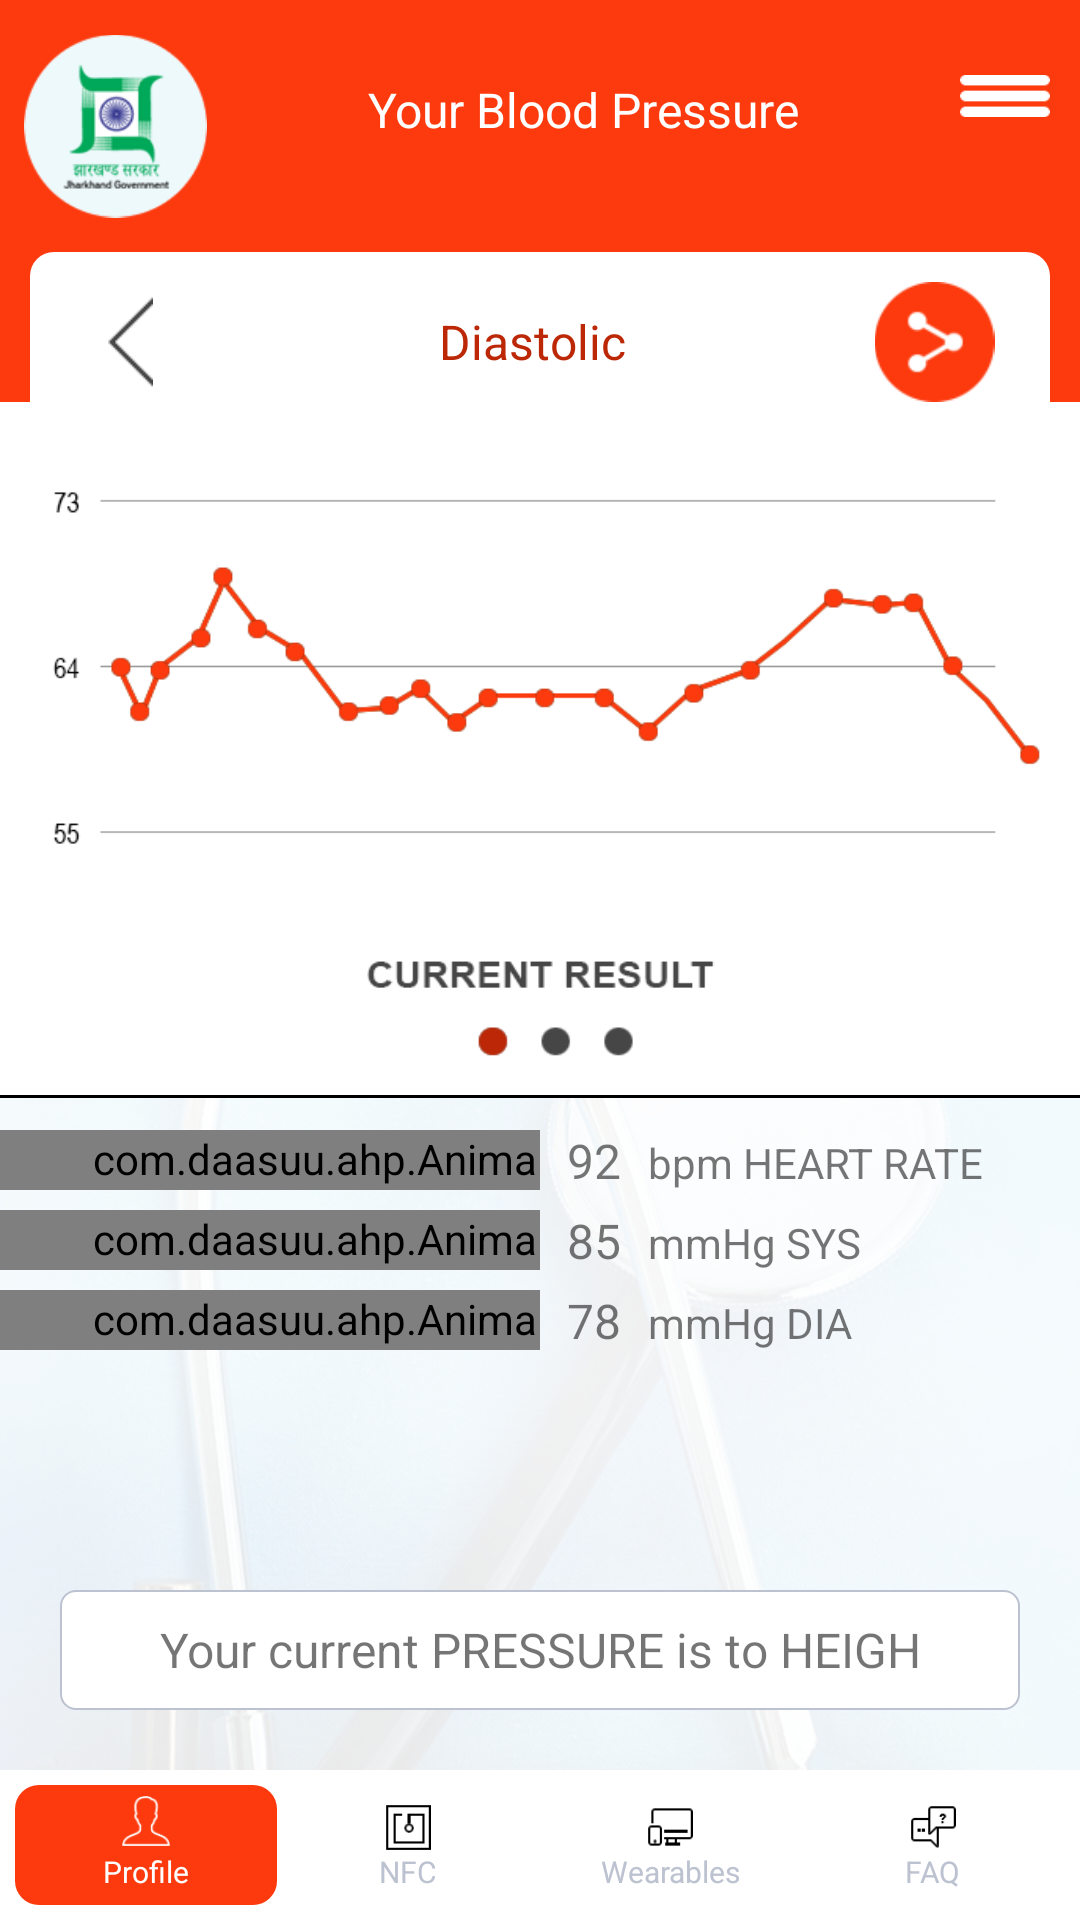

Icons on this 1080x1920 Android screen, each with the point to tap as (x=x, y=y):
back: (x=130, y=342)
menu: (x=1005, y=96)
share: (x=935, y=342)
